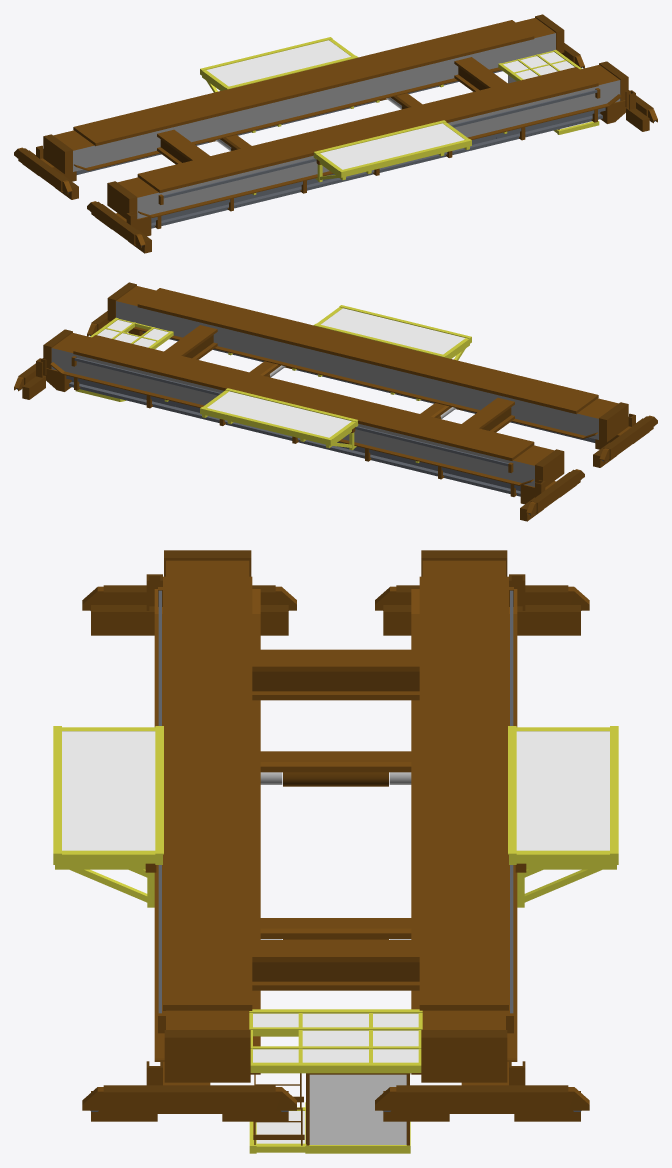
File: SM_M_Props_Industrial_Crest_MechanicalStructure_01_ATLAS.fbx
3 views of the same model, one above another, from view 1: azimuth 30°, elevation 25°; view 2: azimuth 150°, elevation 25°; view 3: azimuth 270°, elevation 25° (orthographic). The views are drawn at different scales.
Parts seen in each view (by area): view 1: SM_M_Props_Industrial_Crest_MechanicalStructure_01_ATLAS; view 2: SM_M_Props_Industrial_Crest_MechanicalStructure_01_ATLAS; view 3: SM_M_Props_Industrial_Crest_MechanicalStructure_01_ATLAS.
Part boxes in pixels (x1,y1,x2,y2): SM_M_Props_Industrial_Crest_MechanicalStructure_01_ATLAS: (14,14,657,253); SM_M_Props_Industrial_Crest_MechanicalStructure_01_ATLAS: (14,282,657,521); SM_M_Props_Industrial_Crest_MechanicalStructure_01_ATLAS: (53,550,618,1153).
Size of the model in its own units: 3087 by 1455 by 364.
